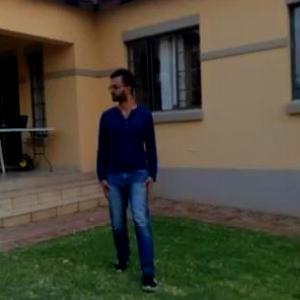follow: (92, 57, 166, 299)
